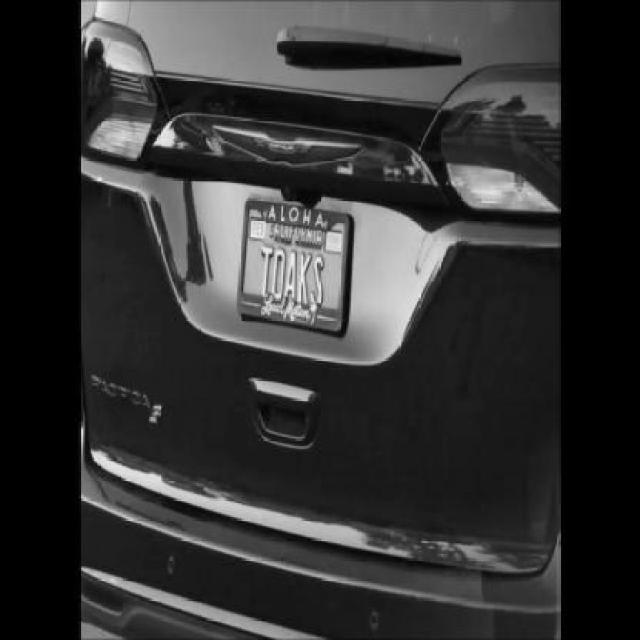licenseplate: (238, 197, 352, 337)
